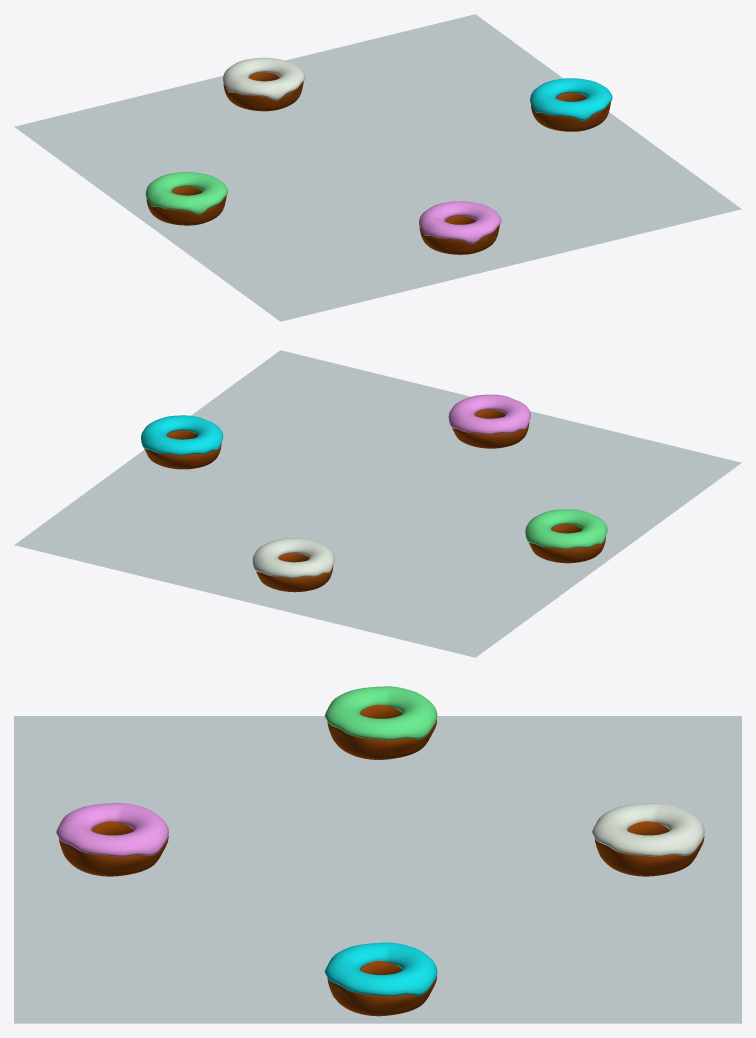
Rendered from donut2.gltf.
3 views of the same model, one above another, from view 1: azimuth 30°, elevation 25°; view 2: azimuth 150°, elevation 25°; view 3: azimuth 270°, elevation 25° (orthographic). The views are drawn at different scales.
Visible parts, largest first — view 1: Plane, Icing, Icing.003, Icing.002, Icing.004, Donut.004, Donut, Donut.002, Donut.003; view 2: Plane, Icing.002, Icing.004, Icing, Icing.003, Donut.004, Donut.003, Donut.002, Donut; view 3: Plane, Icing.004, Icing.003, Icing, Icing.002, Donut, Donut.004, Donut.002, Donut.003.
Boxes of the visible parts, x1=… form: Plane: x1=14, y1=14, x2=741, y2=321; Icing: x1=223, y1=57, x2=305, y2=100; Icing.003: x1=530, y1=78, x2=612, y2=120; Icing.002: x1=419, y1=201, x2=501, y2=243; Icing.004: x1=145, y1=172, x2=228, y2=214; Donut.004: x1=146, y1=186, x2=226, y2=225; Donut: x1=223, y1=72, x2=303, y2=111; Donut.002: x1=419, y1=215, x2=499, y2=254; Donut.003: x1=531, y1=92, x2=610, y2=131; Plane: x1=14, y1=350, x2=741, y2=657; Icing.002: x1=448, y1=394, x2=530, y2=434; Icing.004: x1=525, y1=509, x2=607, y2=549; Icing: x1=252, y1=538, x2=334, y2=578; Icing.003: x1=141, y1=415, x2=223, y2=455; Donut.004: x1=529, y1=524, x2=605, y2=563; Donut.003: x1=144, y1=430, x2=221, y2=469; Donut.002: x1=452, y1=409, x2=529, y2=448; Donut: x1=256, y1=553, x2=333, y2=592; Plane: x1=14, y1=716, x2=741, y2=1023; Icing.004: x1=324, y1=686, x2=437, y2=740; Icing.003: x1=324, y1=942, x2=437, y2=996; Icing: x1=592, y1=803, x2=704, y2=856; Icing.002: x1=56, y1=803, x2=168, y2=856; Donut: x1=594, y1=821, x2=704, y2=876; Donut.004: x1=327, y1=704, x2=436, y2=759; Donut.002: x1=59, y1=821, x2=168, y2=876; Donut.003: x1=327, y1=961, x2=436, y2=1016.
Size of the model in its own units: 0.9351 by 0.0549 by 0.9351.
